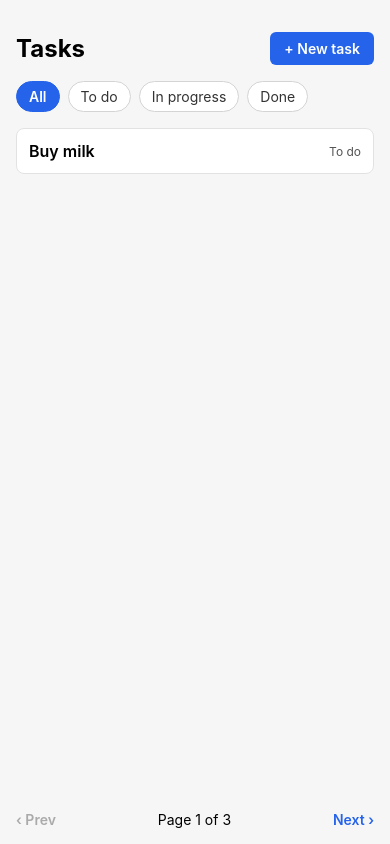
Scenario: TasksScreen › resets to page 1 when a status filter is chosen on page 2
Later steps or results of the test are not shown.
Step 1. Click the button "Next ›" → {"x": 353, "y": 820}, box [333,811,374,828]
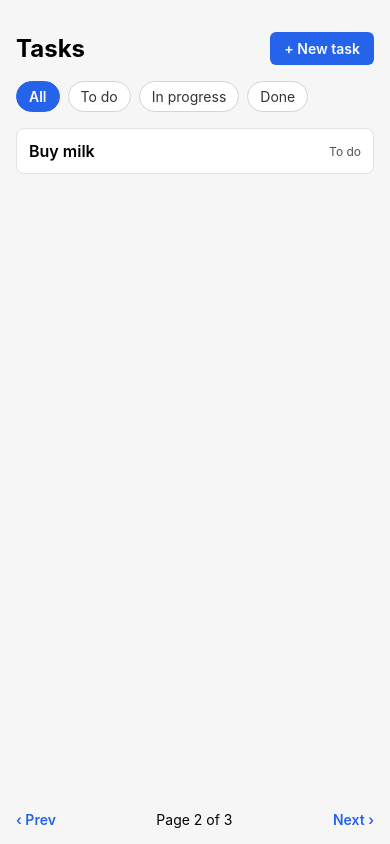
Check: the text "Page 2 of 3" is shown, box [156,811,232,828]
